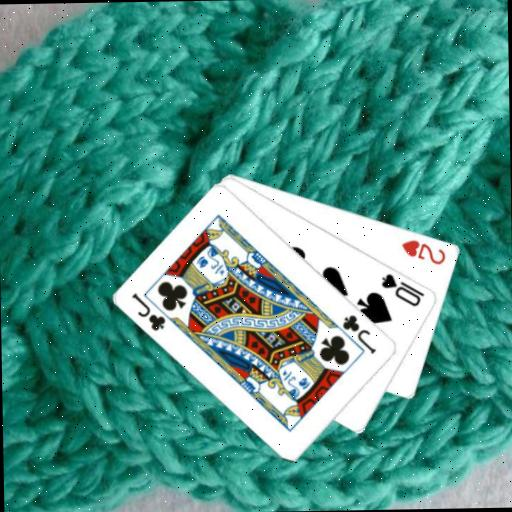10S: (378, 270, 427, 309)
2H: (399, 236, 448, 267)
JC: (129, 289, 168, 334), (340, 311, 378, 357)
